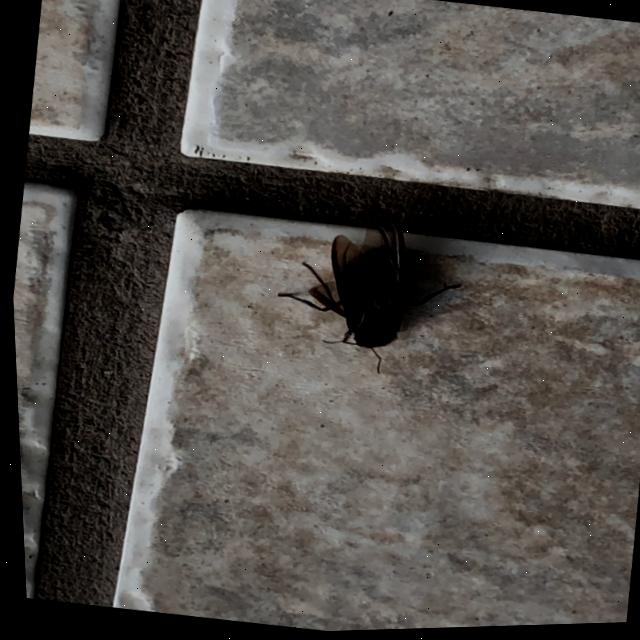Alive-Female-Alate: (261, 194, 472, 390)
